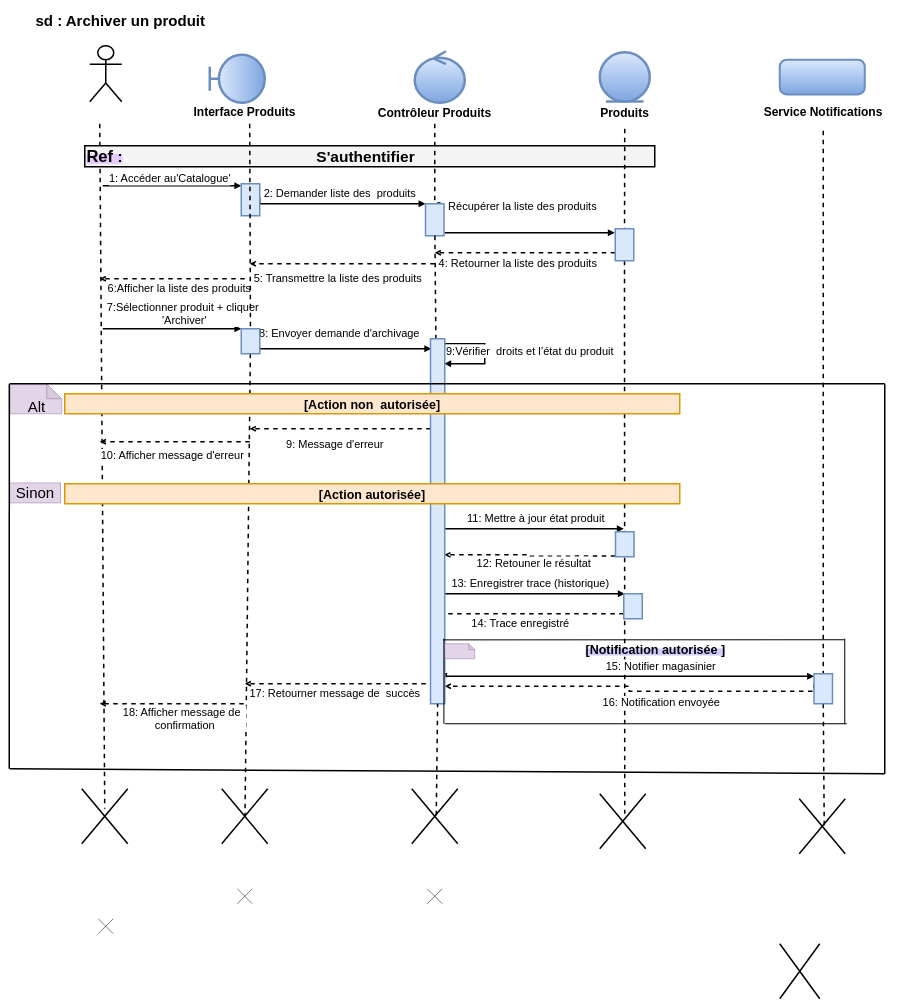
Image size: 907x1008. Some labels were removed from this diagram. The centre of each missing label's shape, as x and y in pixels:
"Opt" belongs at point 459,651.
"Responsable" belongs at point 105,73.
